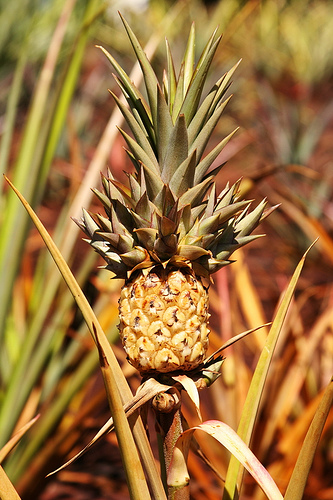pineapple: (68, 7, 282, 378)
